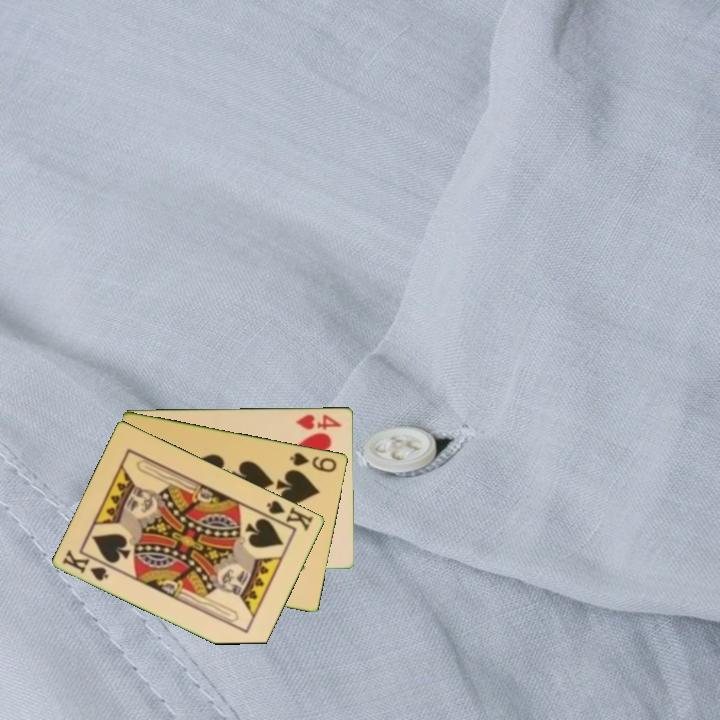4h: (292, 410, 344, 432)
9s: (287, 449, 340, 475)
Ks: (264, 496, 317, 534), (59, 546, 112, 584)
